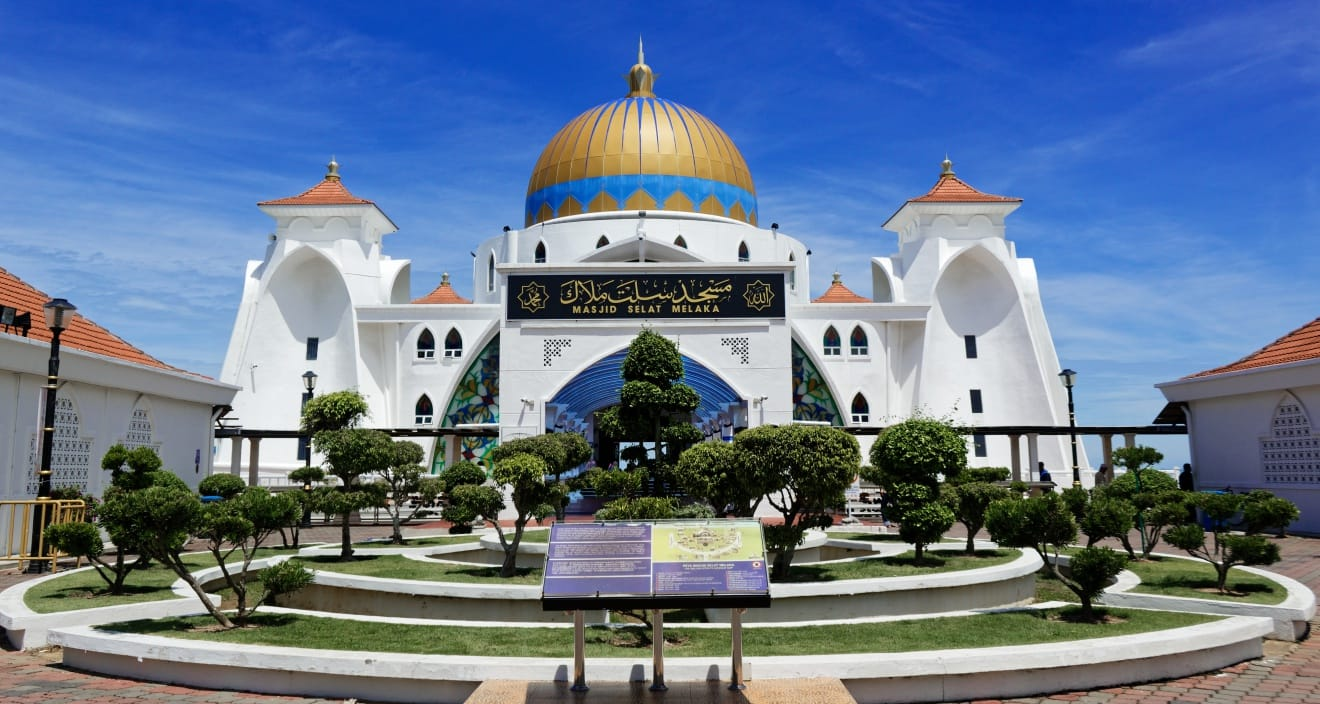Mosque: (208, 90, 1094, 495)
